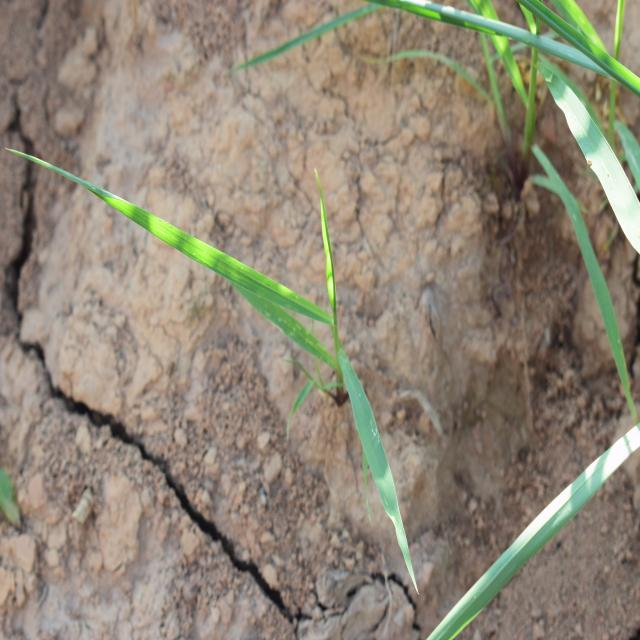green_foxtail: (141, 171, 418, 551)
